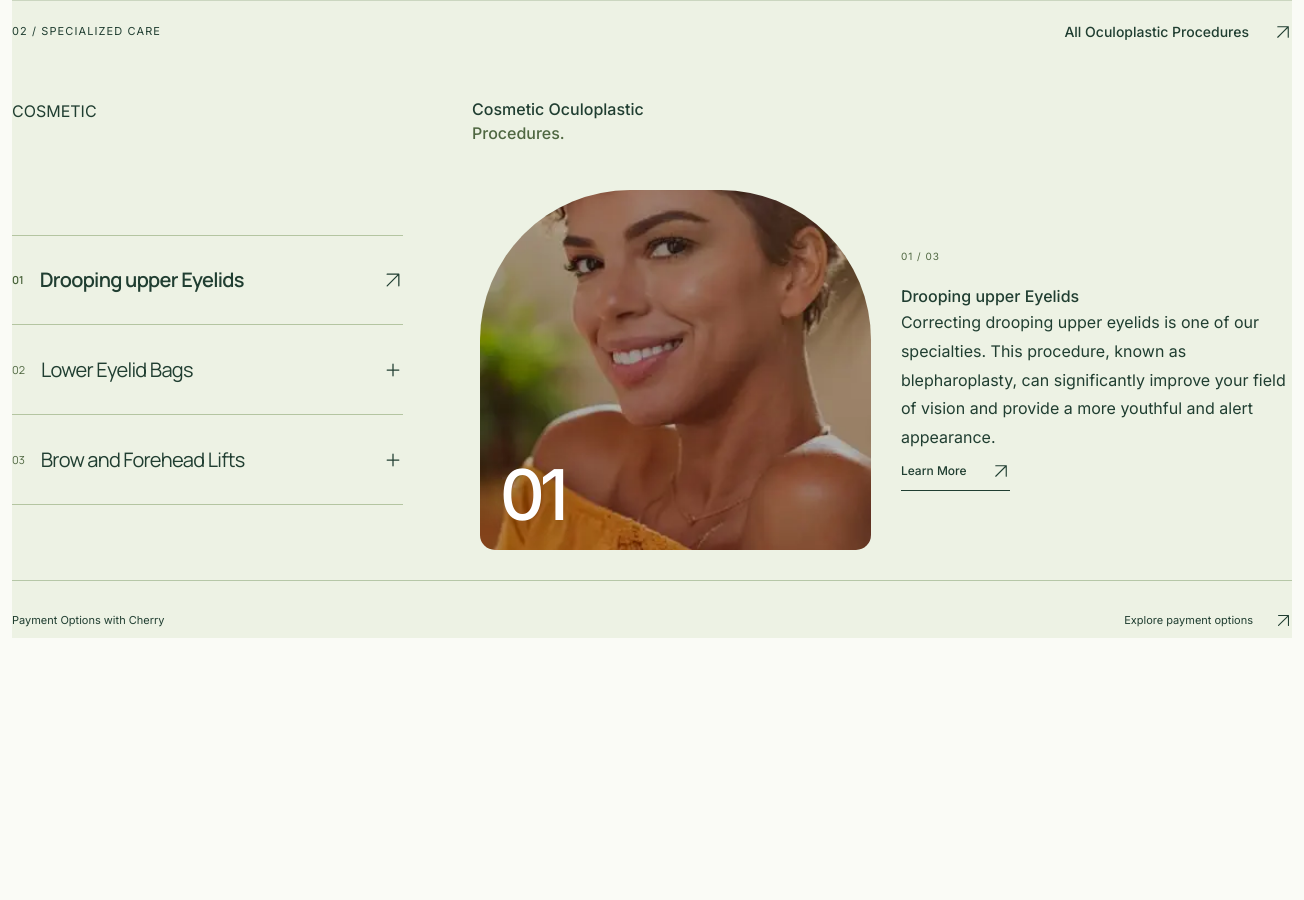
serene procedure browser › supports keyboard selection and retains the exact procedure copy
Press End in the tab "01 Drooping upper Eyelids", box [12, 235, 403, 325]
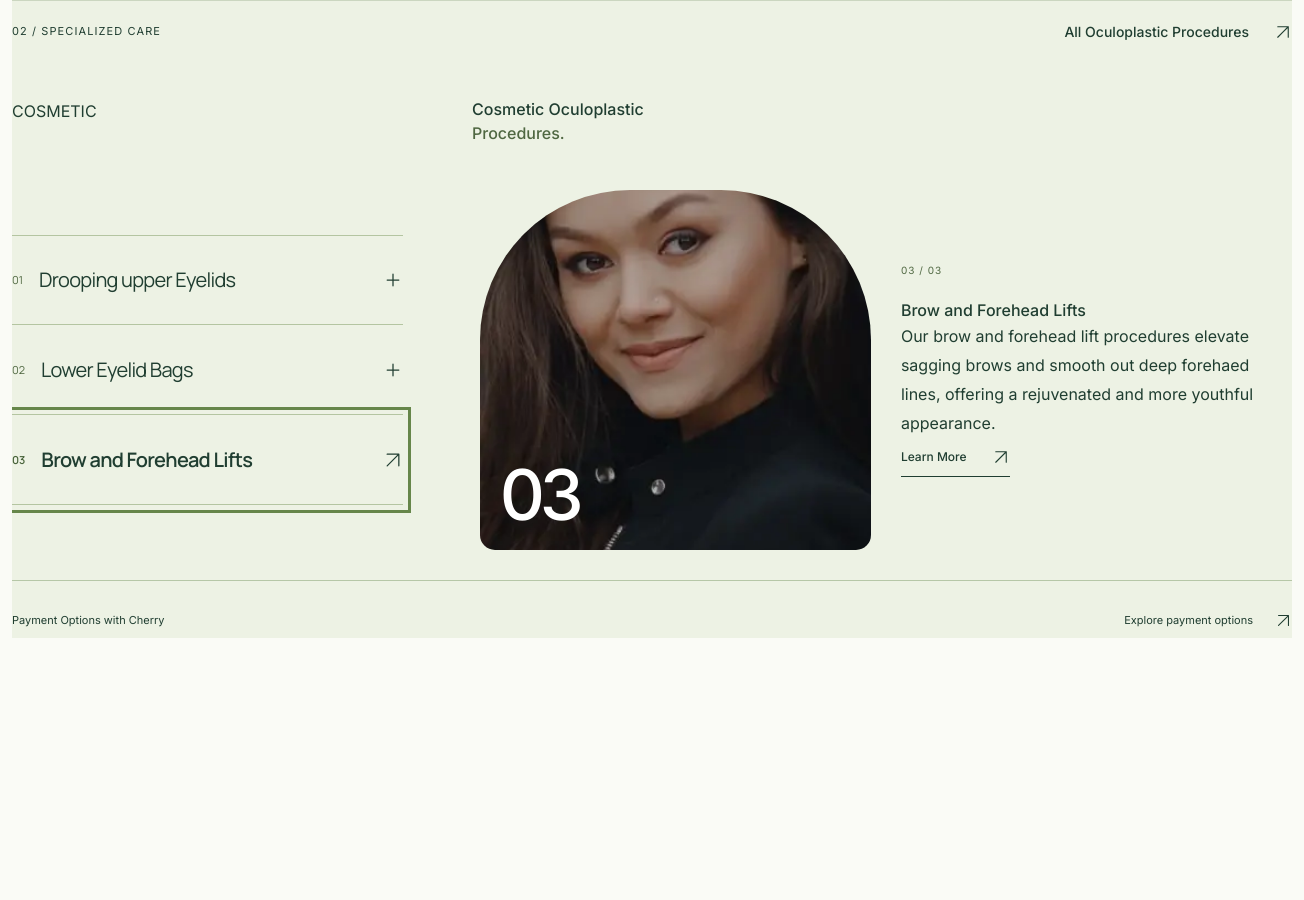
Result: the panel shows "Our brow and forehead lift procedures elevate sagging brows and smooth out deep forehaed lines, offering a rejuvenated and more youthful appearance." at [901, 326, 1253, 433]
Press ArrowRight in the tab "03 Brow and Forehead Lifts", box [12, 415, 403, 505]
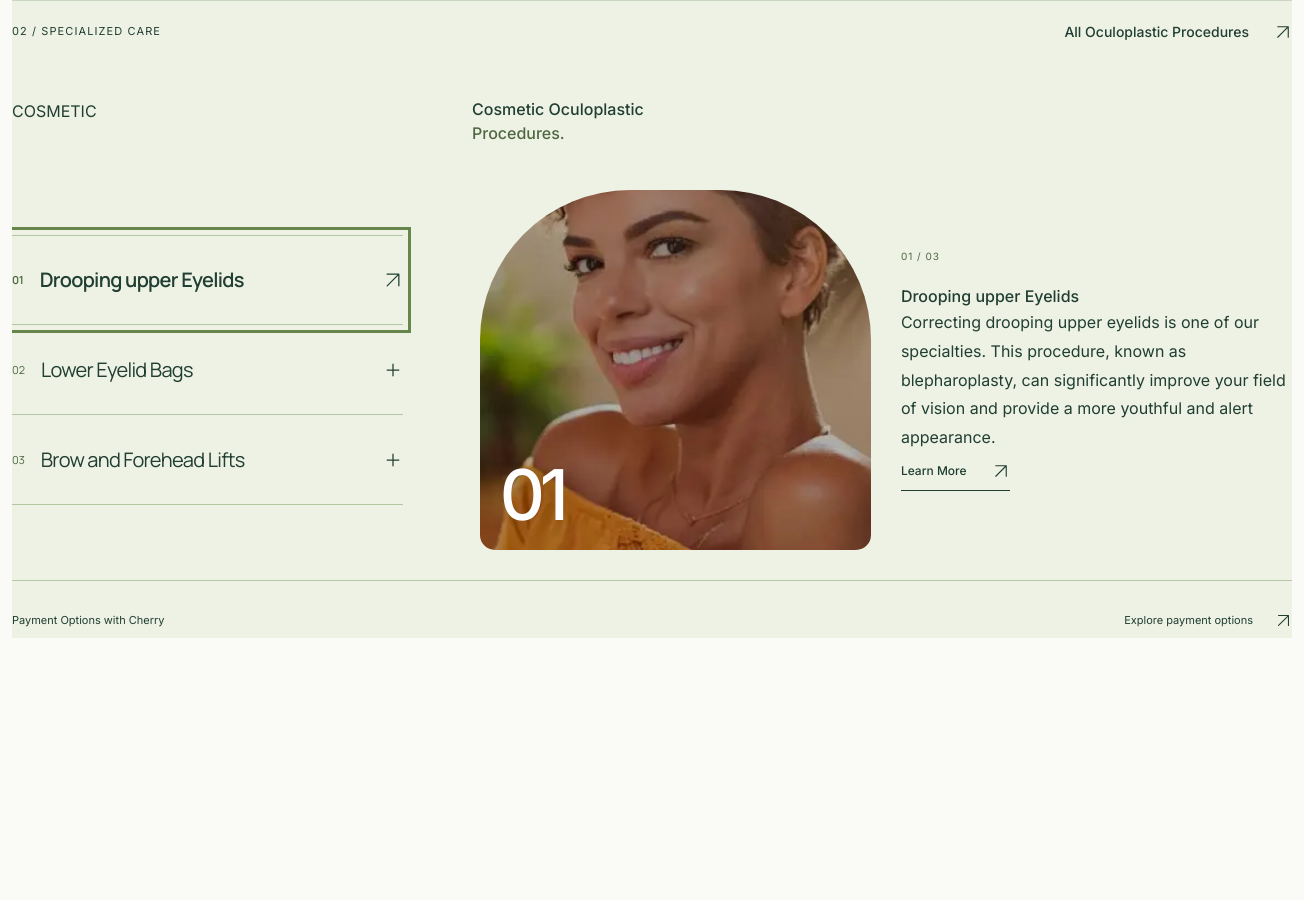
Result: the panel shows "Correcting drooping upper eyelids is one of our specialties. This procedure, known as blepharoplasty, can significantly improve your field of vision and provide" at [901, 312, 1286, 447]
Click the tab "02 Lower Eyelid Bags" at x=117, y=369, box [12, 325, 403, 415]
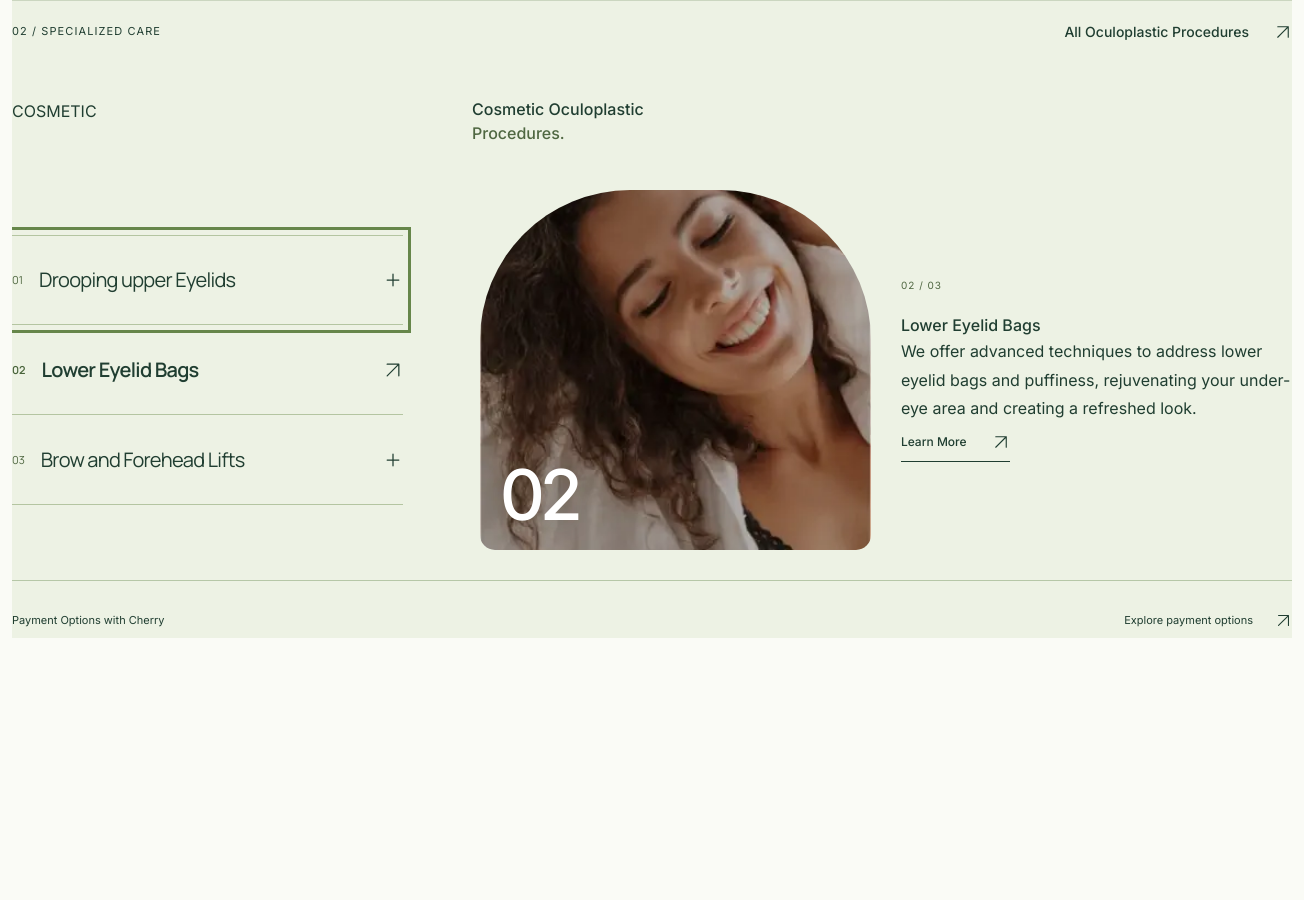
Result: the panel shows "We offer advanced techniques to address lower eyelid bags and puffiness, rejuvenating your under-eye area and creating a refreshed look." at [901, 341, 1290, 418]
